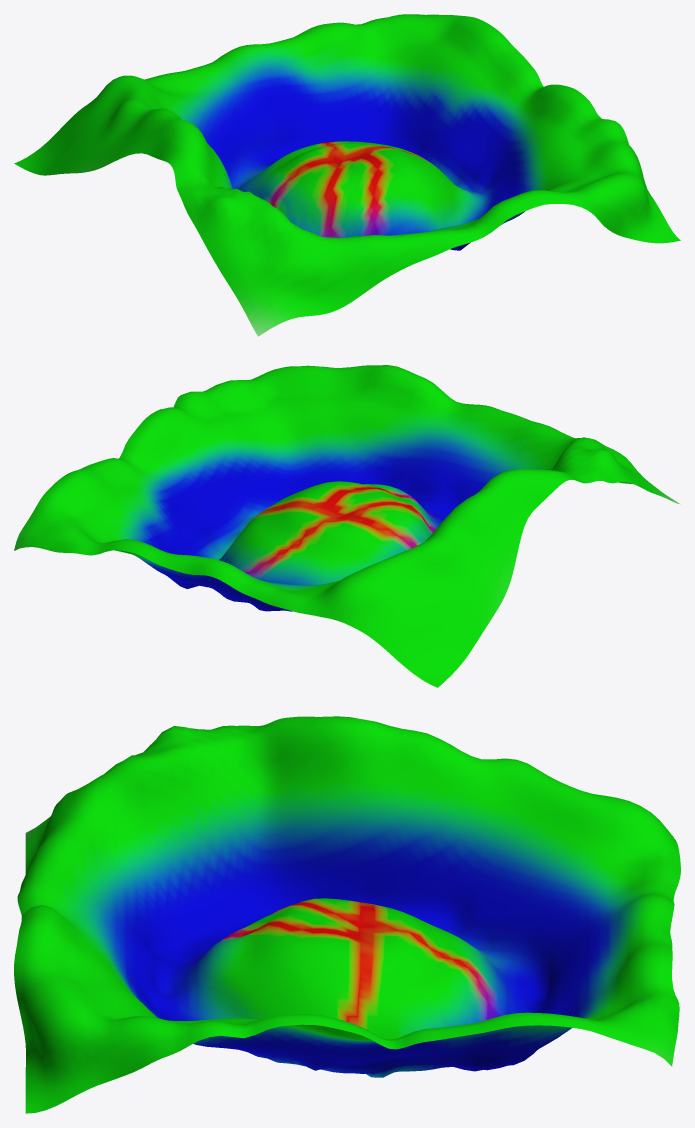
File: FOREST MAP!!.fbx
3 views of the same model, one above another, from view 1: azimuth 30°, elevation 25°; view 2: azimuth 150°, elevation 25°; view 3: azimuth 270°, elevation 25° (orthographic). The views are drawn at different scales.
Parts seen in each view (by area): view 1: Plane; view 2: Plane; view 3: Plane.
Boxes of the visible parts, x1,y1,x2,y2 form: Plane: [14, 14, 680, 336]; Plane: [14, 365, 680, 687]; Plane: [14, 716, 680, 1113].
Bounding box in the file's own units: 77825 × 23804 × 78357.
